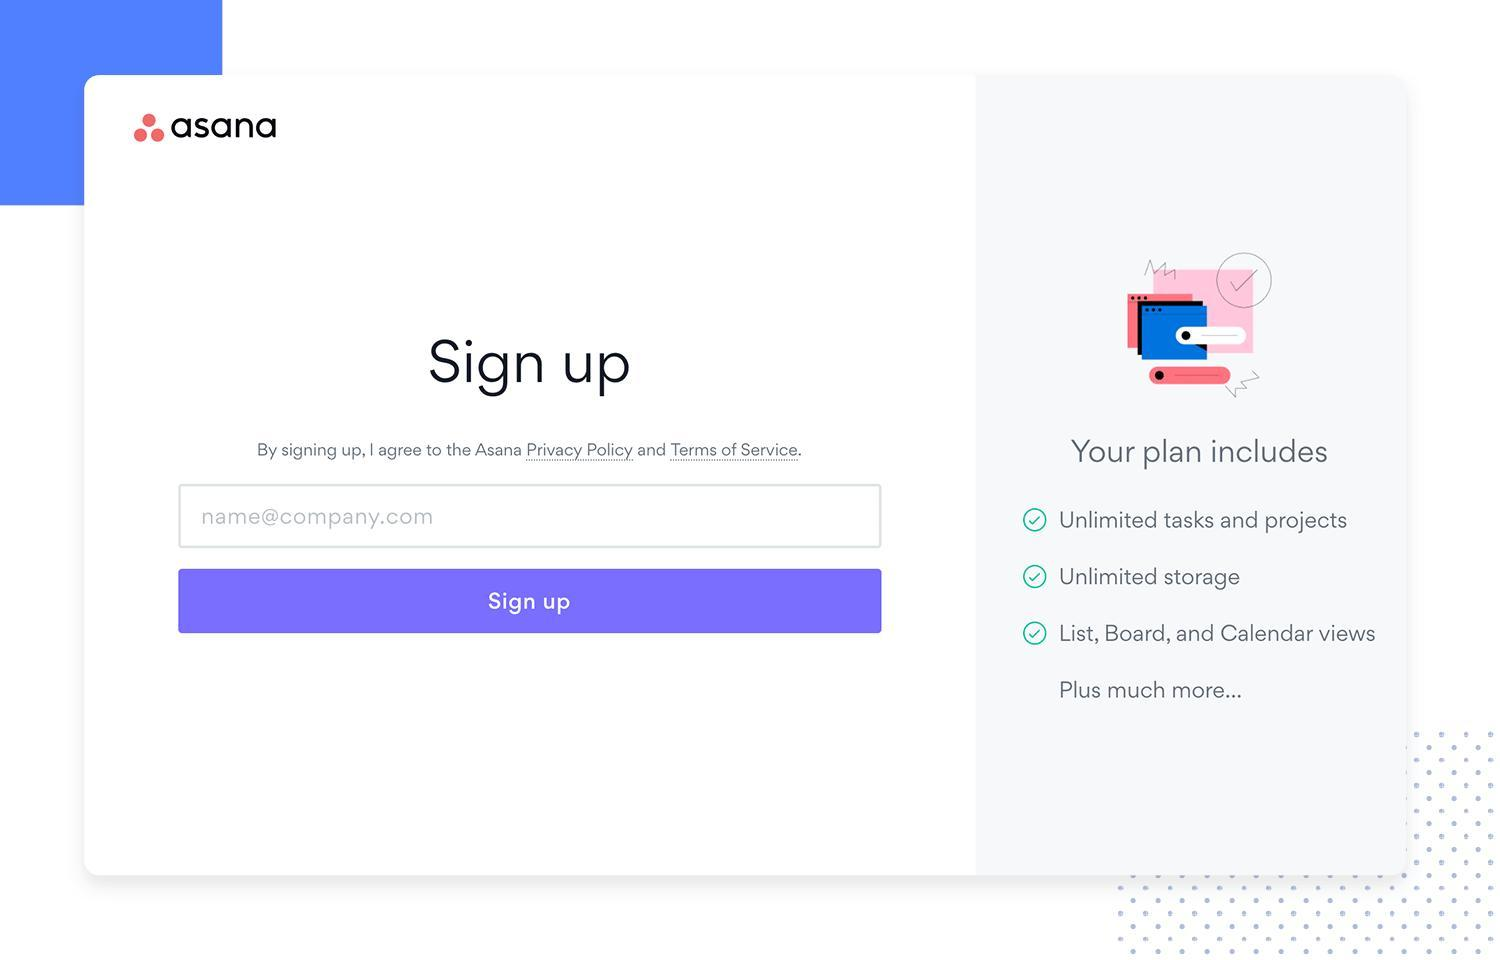button: (179, 569, 884, 635)
checkbox: (1022, 620, 1052, 647), (1024, 564, 1050, 590), (1024, 508, 1048, 534)
input: (180, 487, 880, 548)
